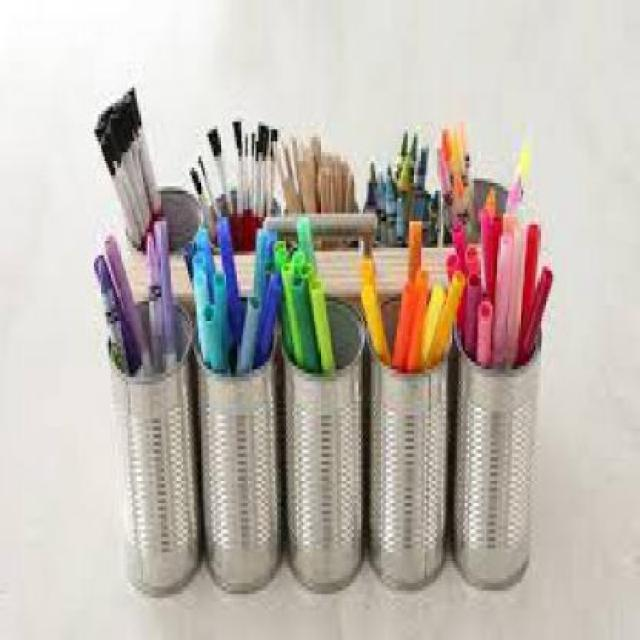METAL: (120, 298, 200, 590), (450, 338, 542, 591), (288, 308, 364, 590), (201, 347, 284, 590), (371, 350, 451, 587)
